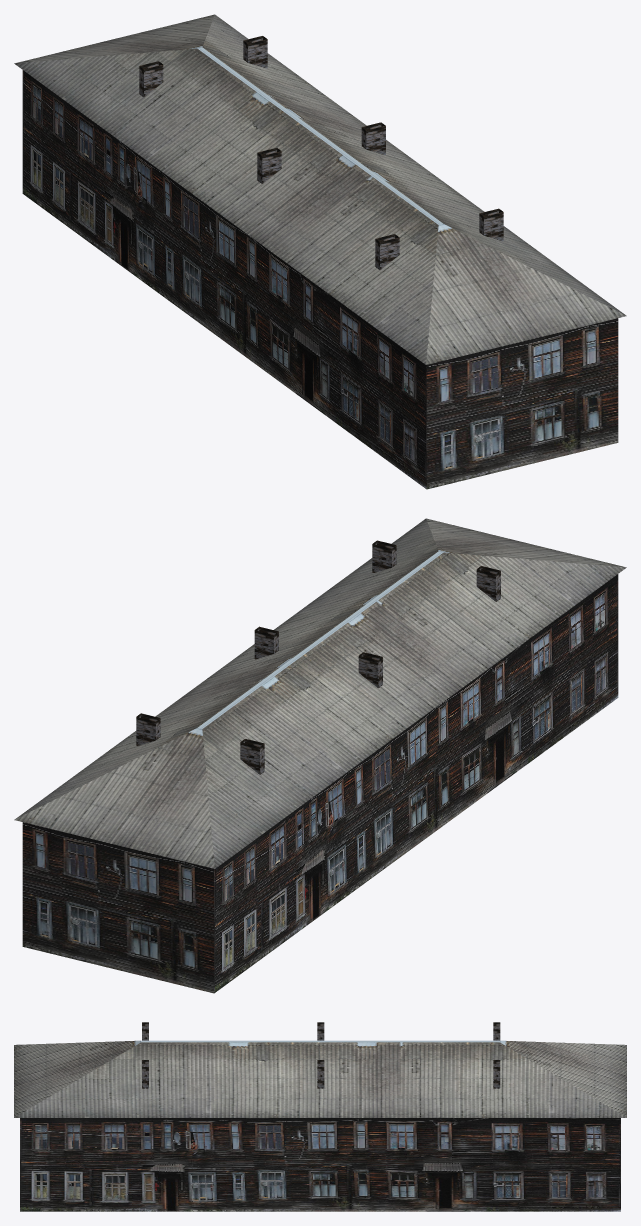
File: d_dom_2et_16.FBX
The picture shows the model from 3 angles, top to bottom: view 1: azimuth 30°, elevation 25°; view 2: azimuth 150°, elevation 25°; view 3: azimuth 270°, elevation 25°; orthographic projection. The views are drawn at different scales.
Parts seen in each view (by area): view 1: d_dom_2et_16; view 2: d_dom_2et_16; view 3: d_dom_2et_16.
Part boxes in pixels (<box>): d_dom_2et_16: <box>14,14,626,489</box>; d_dom_2et_16: <box>14,518,626,993</box>; d_dom_2et_16: <box>14,1022,626,1211</box>.
Size of the model in its own units: 9.81 by 34.85 by 8.5.
